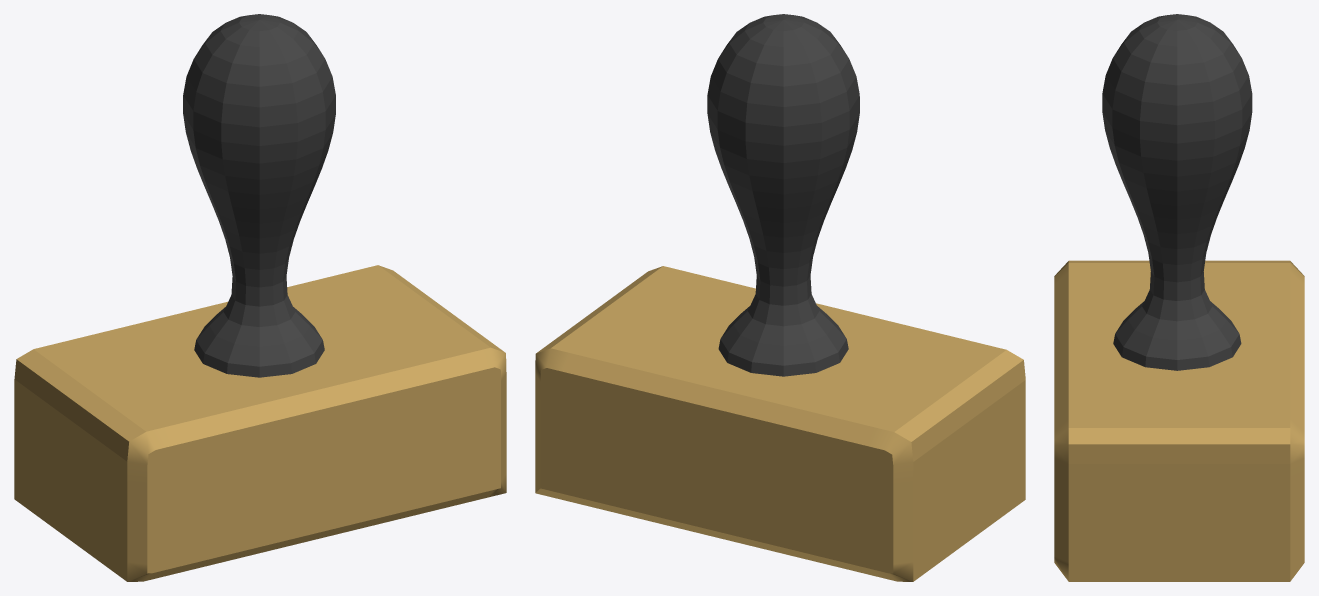
The model's file is stamp.fbx.
3 views of the same model, side by side, from view 1: azimuth 30°, elevation 25°; view 2: azimuth 150°, elevation 25°; view 3: azimuth 270°, elevation 25° (orthographic).
Visible parts, largest first — view 1: polySurface1; view 2: polySurface1; view 3: polySurface1.
Boxes of the visible parts, x1,y1,x2,y2 form: polySurface1: [14, 14, 506, 581]; polySurface1: [535, 14, 1025, 581]; polySurface1: [1054, 14, 1304, 581].
Bounding box in the file's own units: 24.81 × 29.96 × 14.46.
